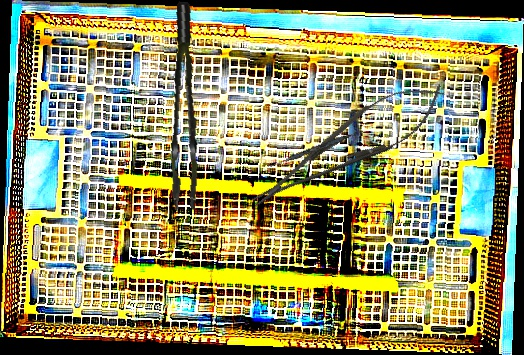Needle Holder: (239, 65, 456, 226)
Spatula Surgical: (266, 127, 364, 171)
Tissue Forceps: (152, 1, 220, 213)
